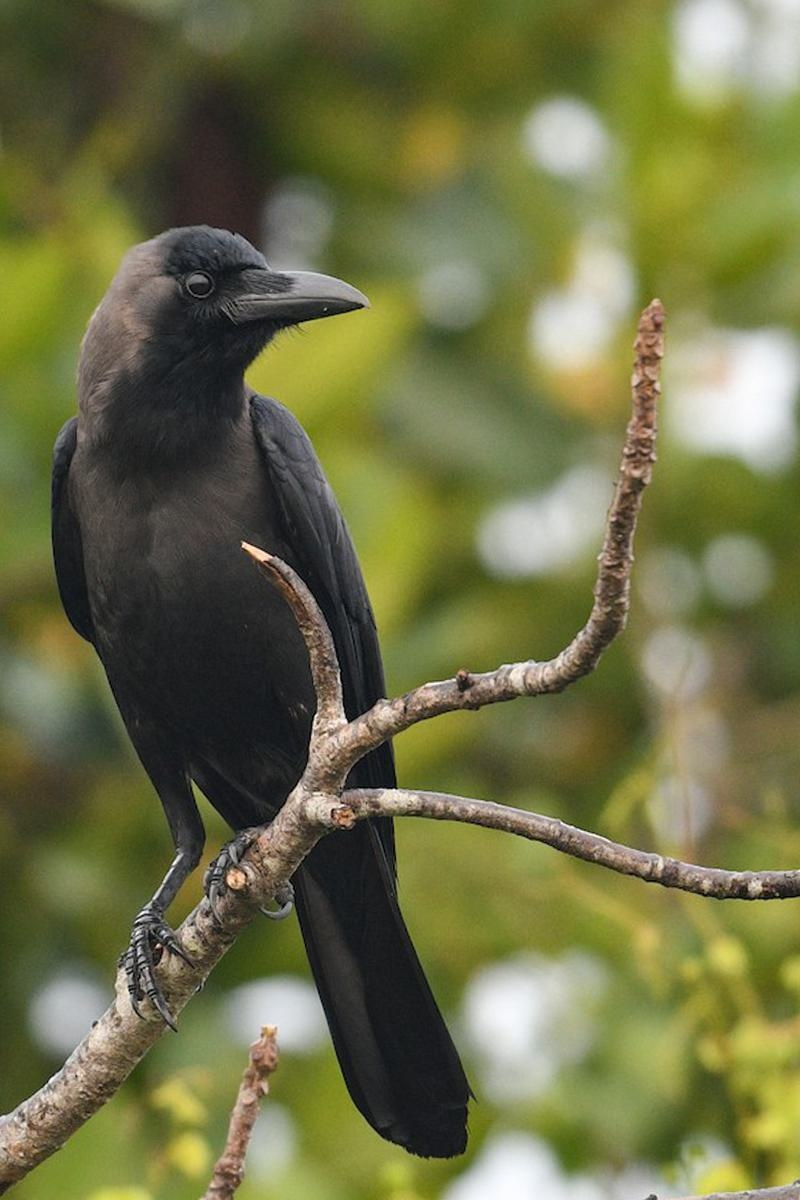crow: (69, 207, 513, 1158)
